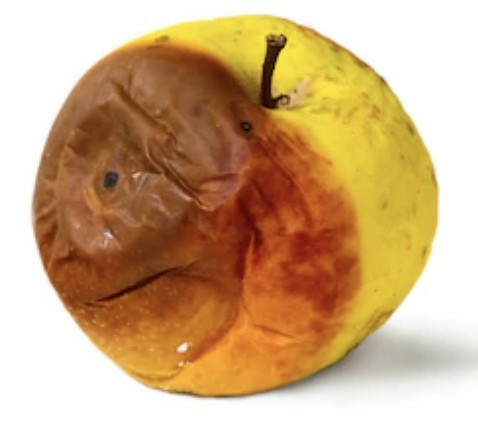rotten_apple: (32, 16, 439, 398)
